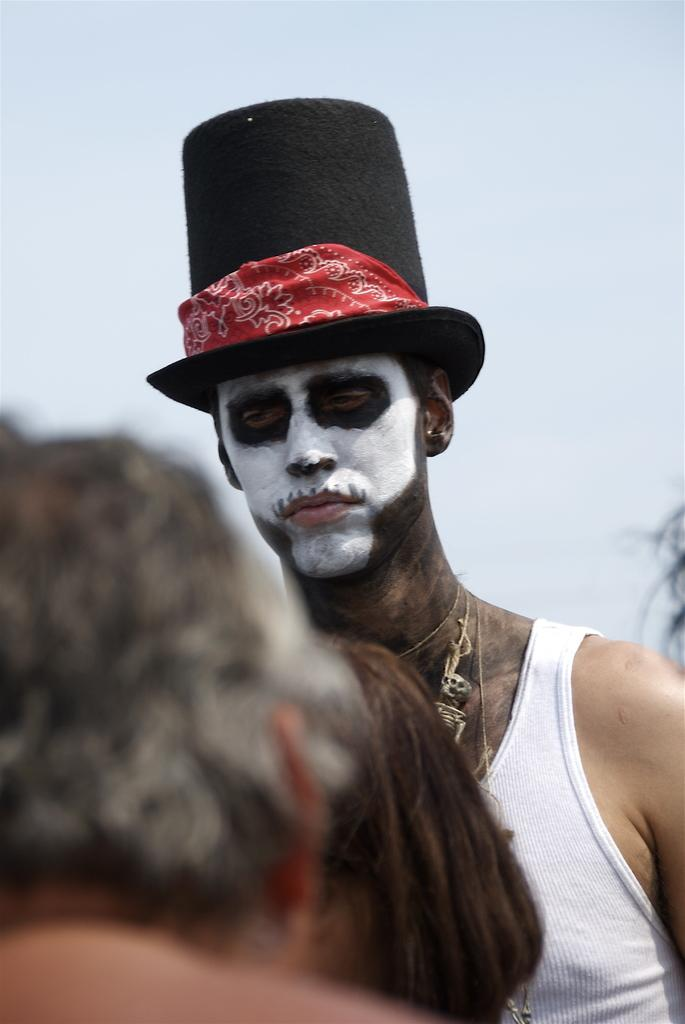Hat: (144, 98, 485, 420)
